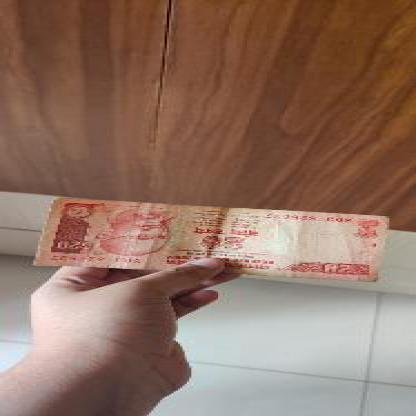Old20Front: (44, 197, 392, 273)
